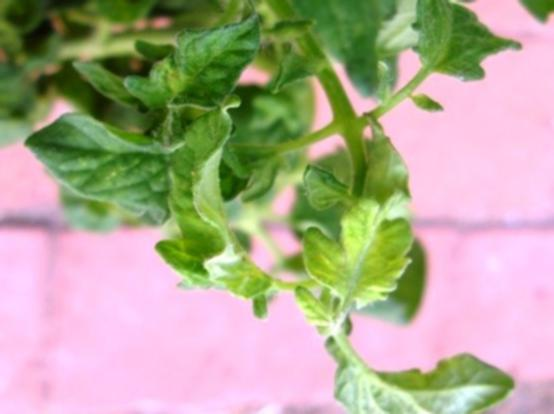Tomato leaf yellow virus: (144, 88, 274, 317), (298, 122, 434, 313), (19, 92, 195, 219), (307, 337, 532, 414), (393, 0, 534, 101)
